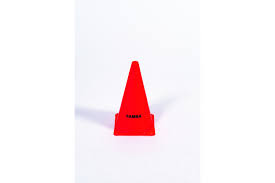cones: (115, 61, 156, 138)
